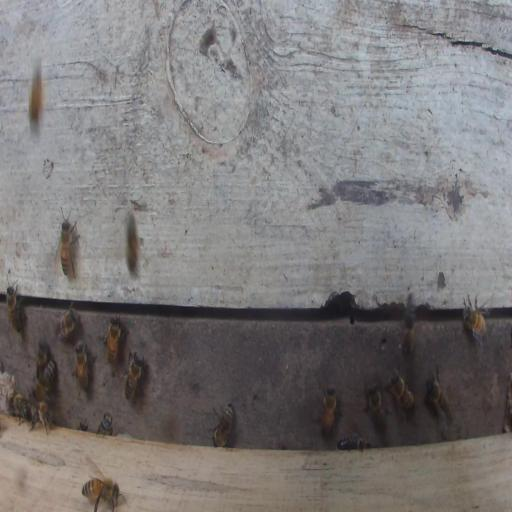bee: (23, 57, 48, 132), (425, 366, 455, 428), (388, 366, 416, 425), (462, 294, 489, 349), (82, 477, 123, 511), (314, 384, 337, 436), (5, 278, 25, 335), (365, 384, 390, 426), (124, 350, 144, 402), (54, 301, 79, 342), (105, 314, 125, 364), (127, 212, 142, 276), (33, 359, 56, 399), (214, 403, 233, 450), (400, 301, 416, 356), (74, 339, 91, 390), (9, 392, 34, 426), (29, 400, 52, 436), (60, 219, 71, 276), (337, 432, 371, 450), (37, 341, 50, 375), (96, 413, 113, 436)
